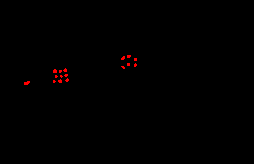Target: (24, 81, 30, 85), (121, 56, 125, 60), (63, 68, 67, 72), (53, 69, 57, 73), (65, 78, 69, 82), (58, 79, 62, 83), (127, 55, 131, 58), (134, 63, 137, 67), (121, 66, 125, 69), (64, 74, 68, 77), (134, 58, 137, 61), (127, 63, 130, 66), (59, 70, 62, 73), (55, 75, 58, 78), (60, 75, 63, 78), (53, 80, 56, 83)
